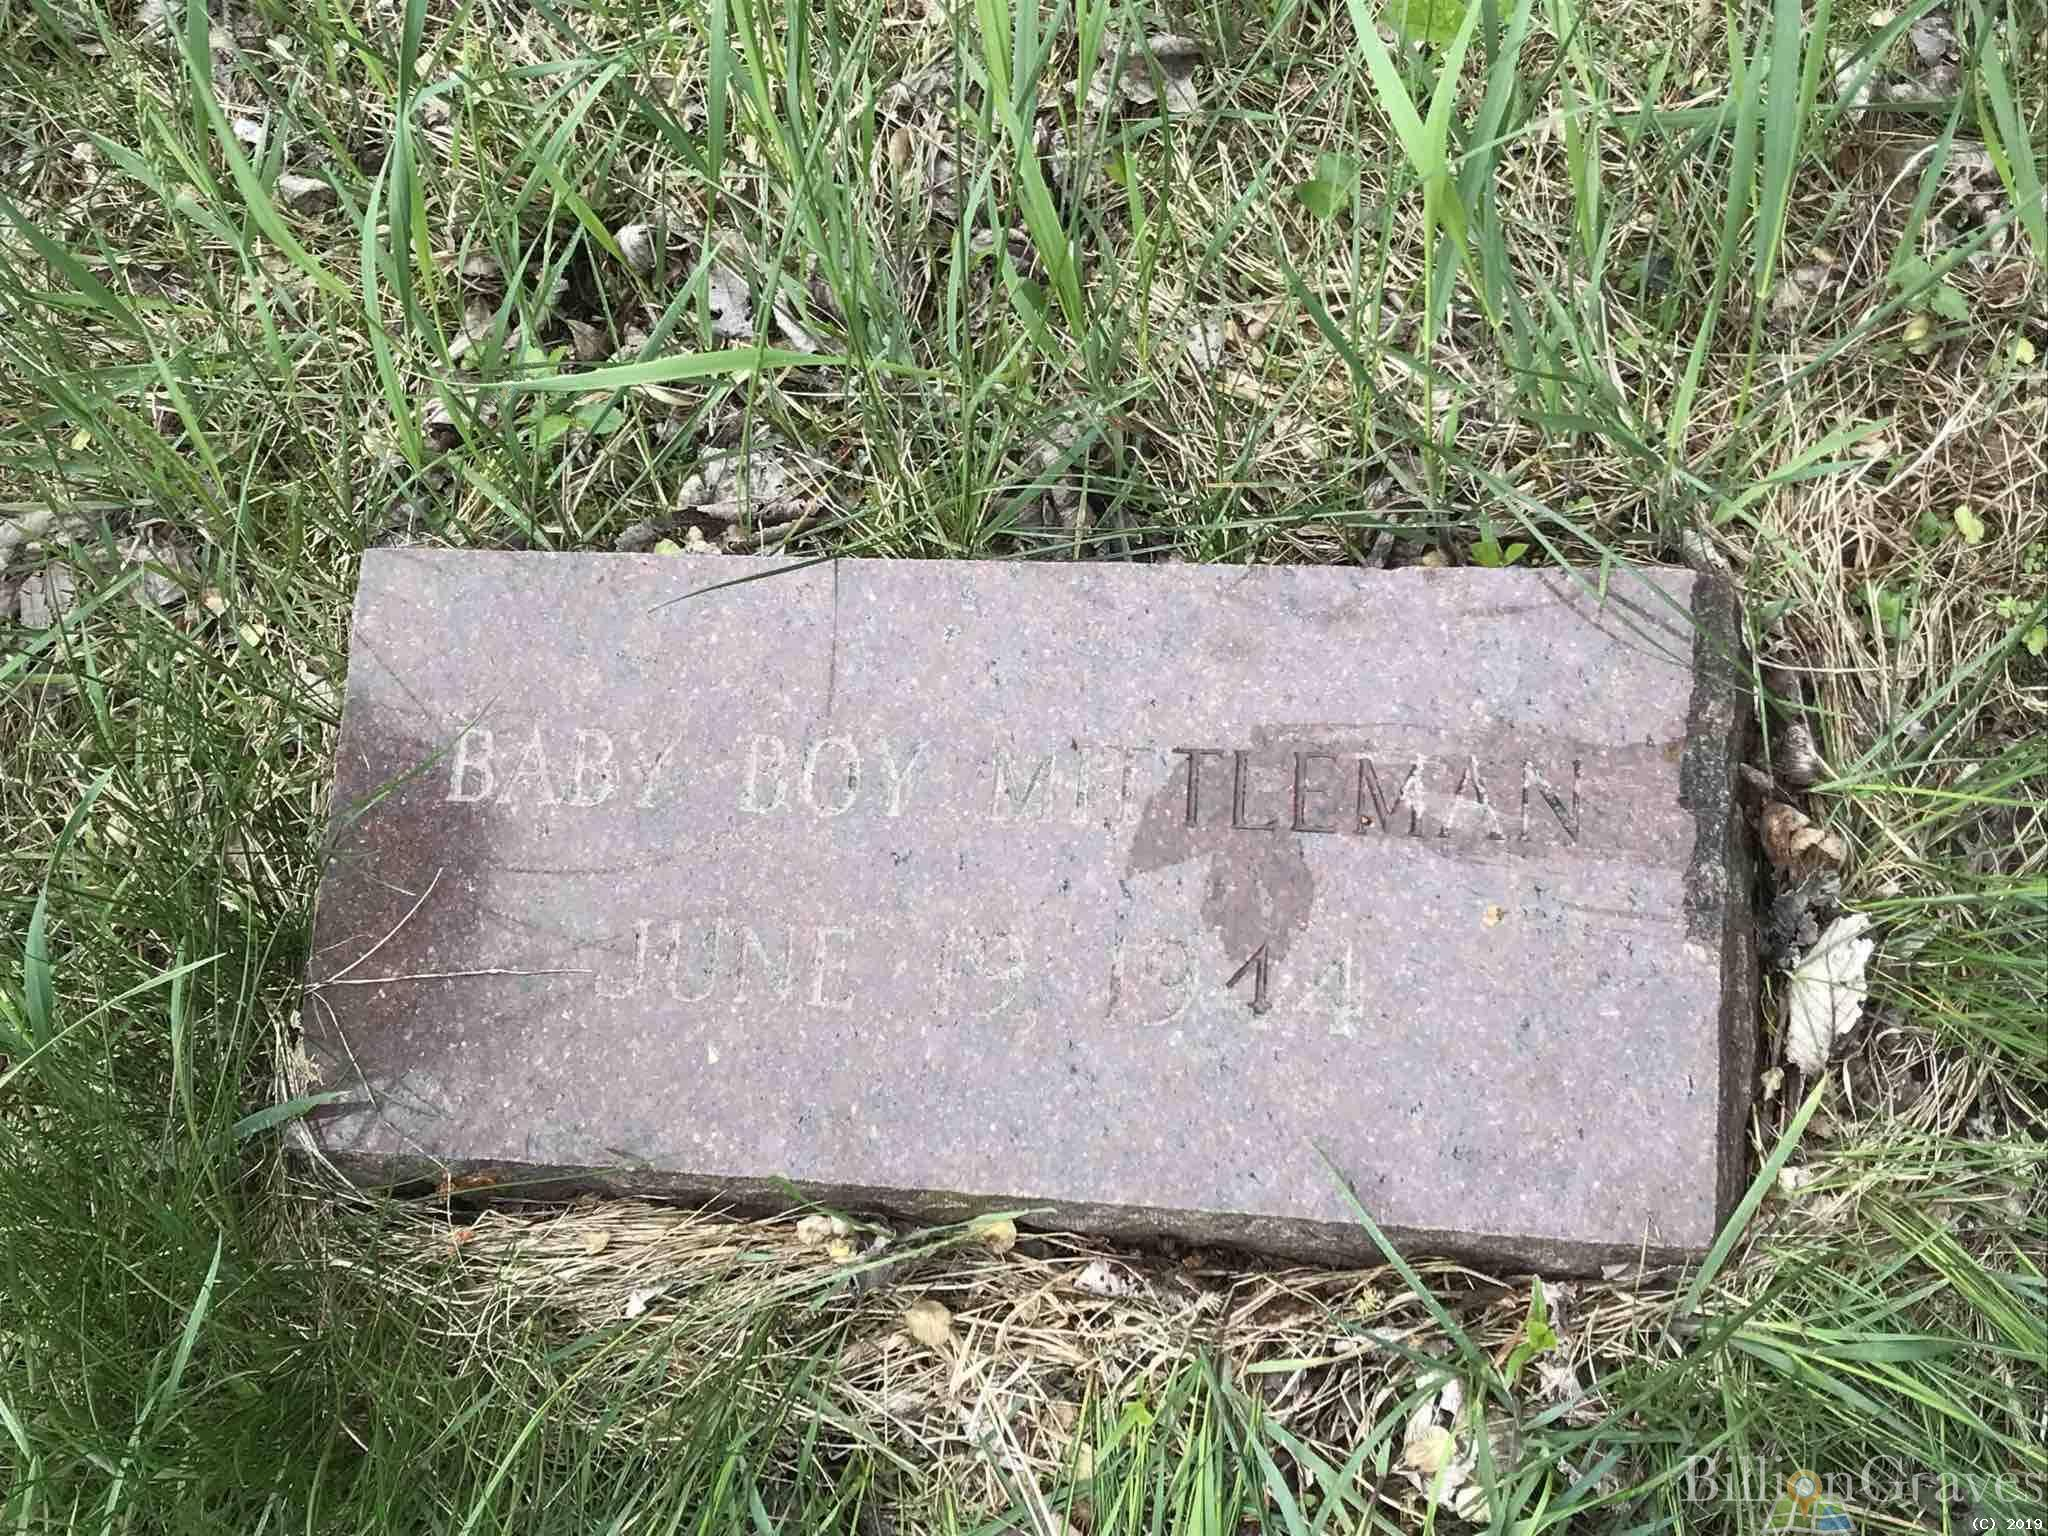flat: (160, 461, 1900, 1300)
